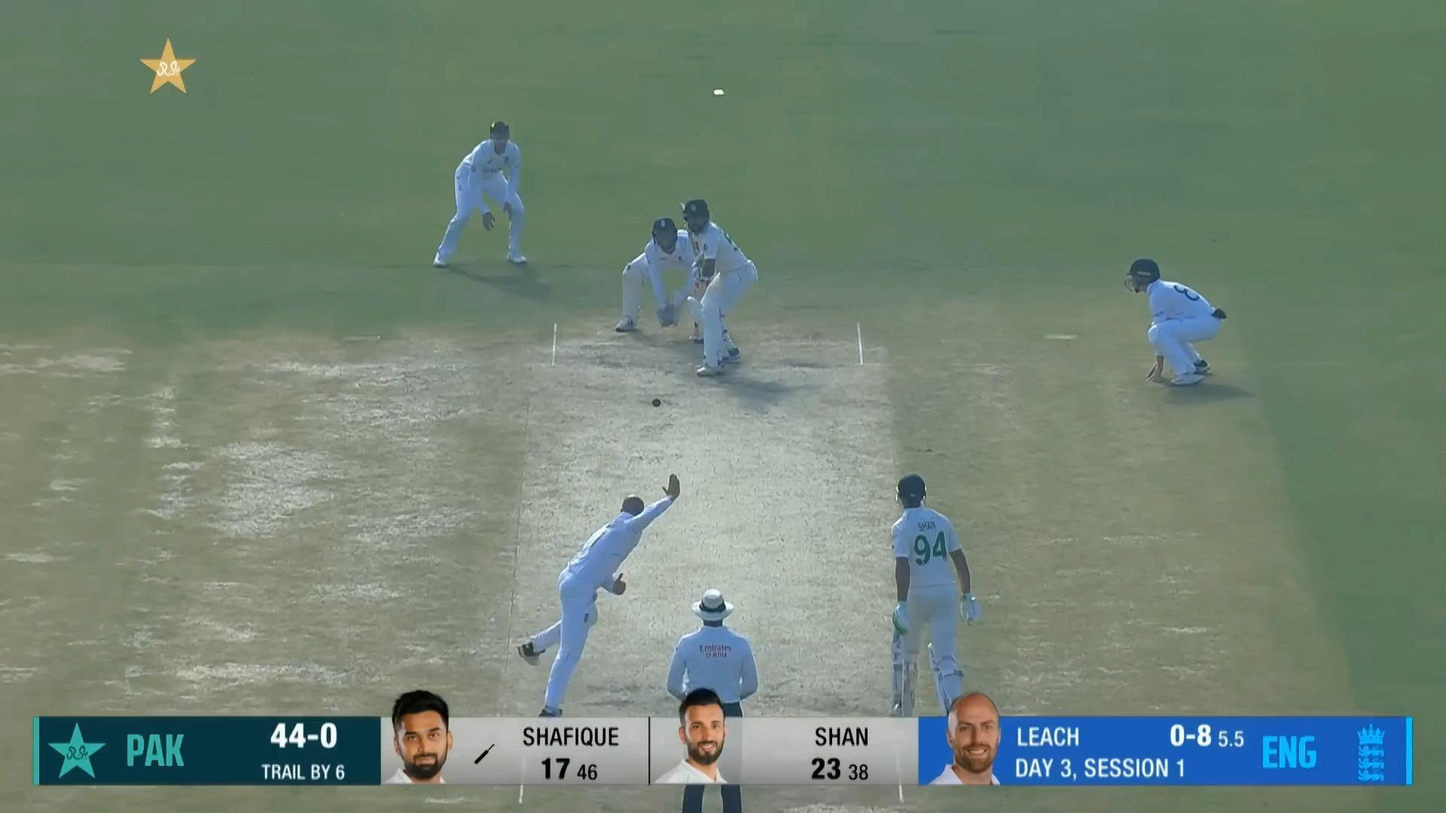BM 1: (679, 199, 759, 376)
BO: (518, 473, 681, 717)
